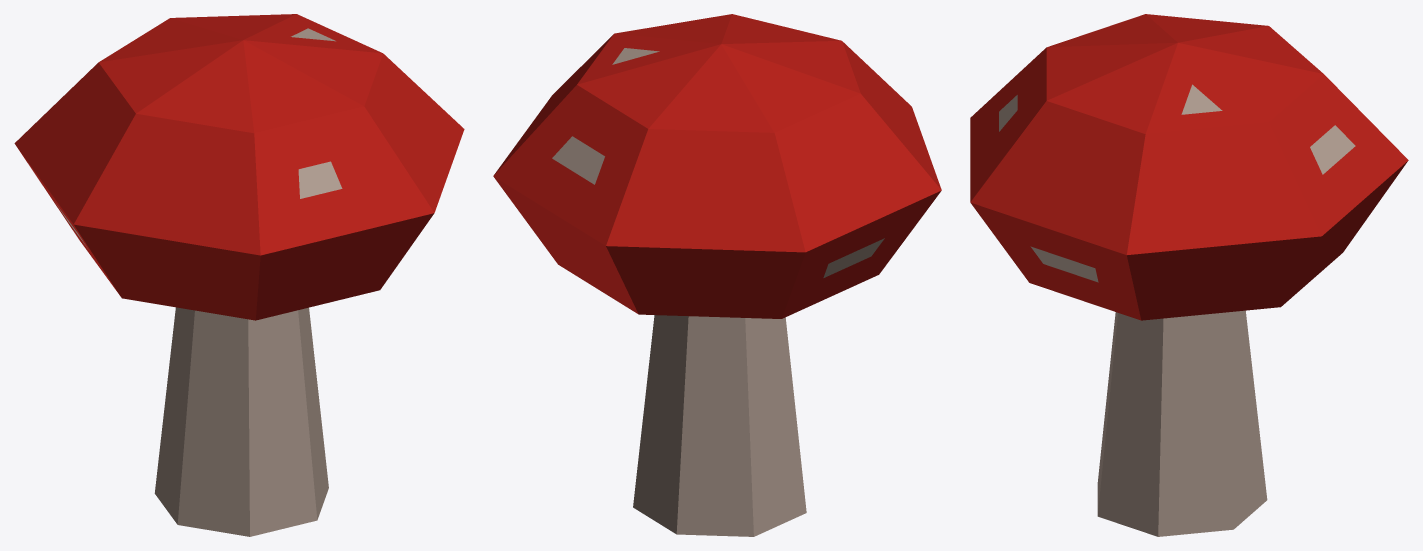
The model's file is Toadstool2.fbx.
The picture shows the model from 3 angles, left to right: view 1: azimuth 30°, elevation 25°; view 2: azimuth 150°, elevation 25°; view 3: azimuth 270°, elevation 25°; orthographic projection.
Parts seen in each view (by area): view 1: Toadstool2; view 2: Toadstool2; view 3: Toadstool2.
Boxes of the visible parts, x1,y1,x2,y2 form: Toadstool2: [14, 14, 464, 536]; Toadstool2: [493, 14, 941, 536]; Toadstool2: [970, 14, 1408, 536].
Bounding box in the file's own units: 23.84 × 26.75 × 23.24.
